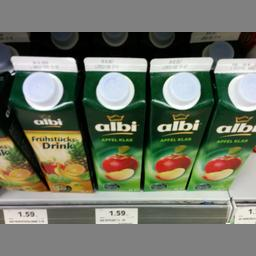juice: (8, 52, 93, 190), (142, 57, 214, 191), (184, 57, 255, 191), (78, 55, 148, 190)
